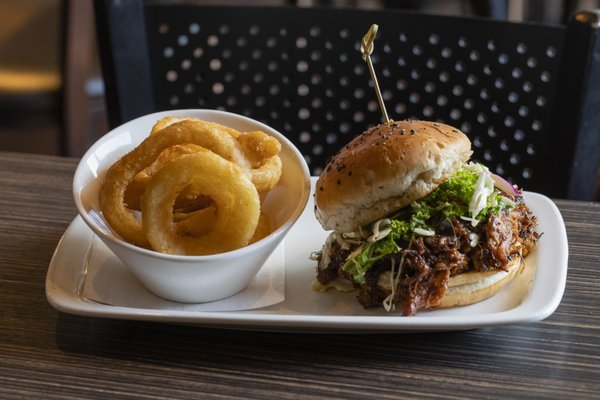soup: (311, 119, 539, 315)
sushi: (74, 114, 311, 303)
